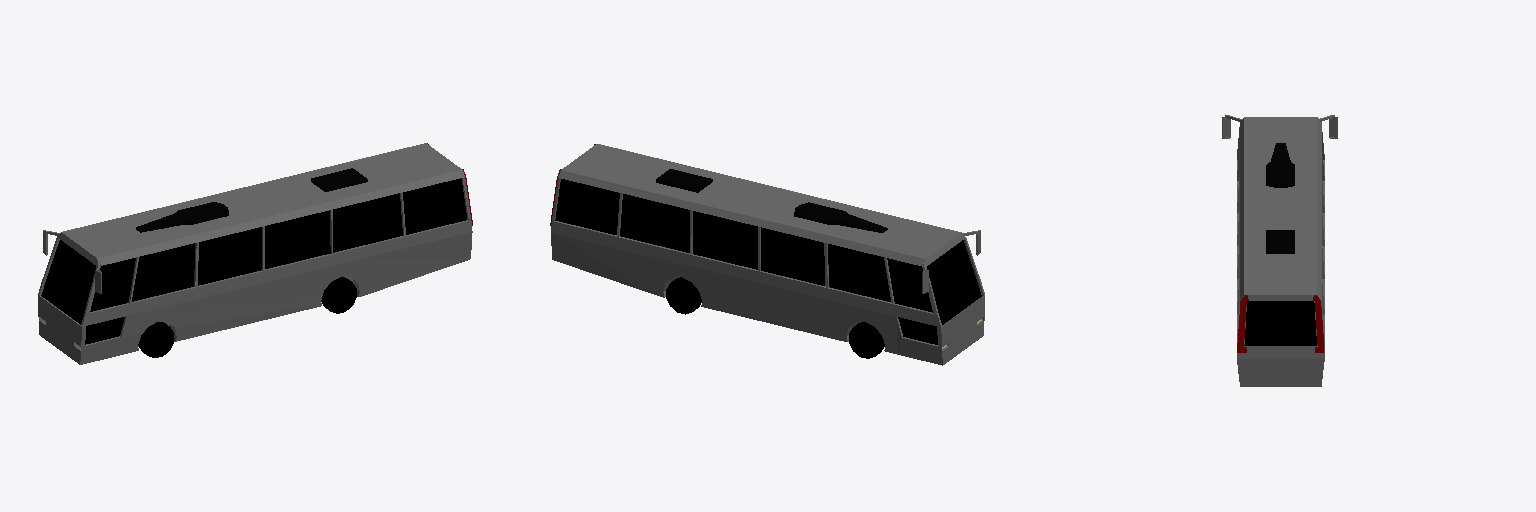
File: bus.obj
3 views of the same model, side by side, from view 1: azimuth 30°, elevation 25°; view 2: azimuth 150°, elevation 25°; view 3: azimuth 270°, elevation 25° (orthographic).
Parts seen in each view (by area): view 1: body, window, up, Cylinder003, Cylinder004; view 2: body, window, up, Cylinder001, Cylinder002; view 3: body, window, up, rear_light.
Boxes of the visible parts, box(x1,y1,x2,y2) form: body: box(38, 143, 472, 364); window: box(41, 178, 466, 344); up: box(136, 168, 367, 232); Cylinder003: box(321, 277, 356, 313); Cylinder004: box(138, 322, 173, 357); body: box(551, 144, 984, 365); window: box(555, 179, 981, 344); up: box(656, 169, 887, 232); Cylinder001: box(849, 322, 884, 358); Cylinder002: box(666, 277, 701, 314); body: box(1222, 115, 1337, 386); window: box(1244, 301, 1316, 345); up: box(1266, 143, 1294, 253); rear_light: box(1237, 295, 1323, 352).
Bounding box in the file's own units: 13.07 × 3.64 × 3.33.